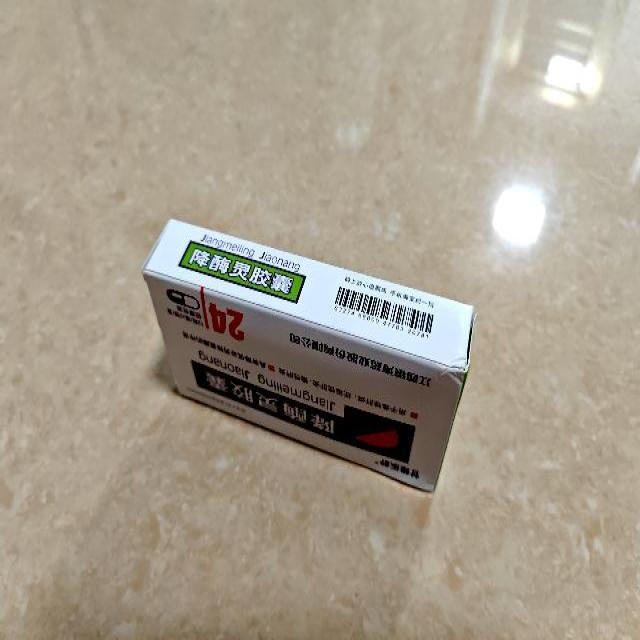box: (142, 218, 476, 494)
